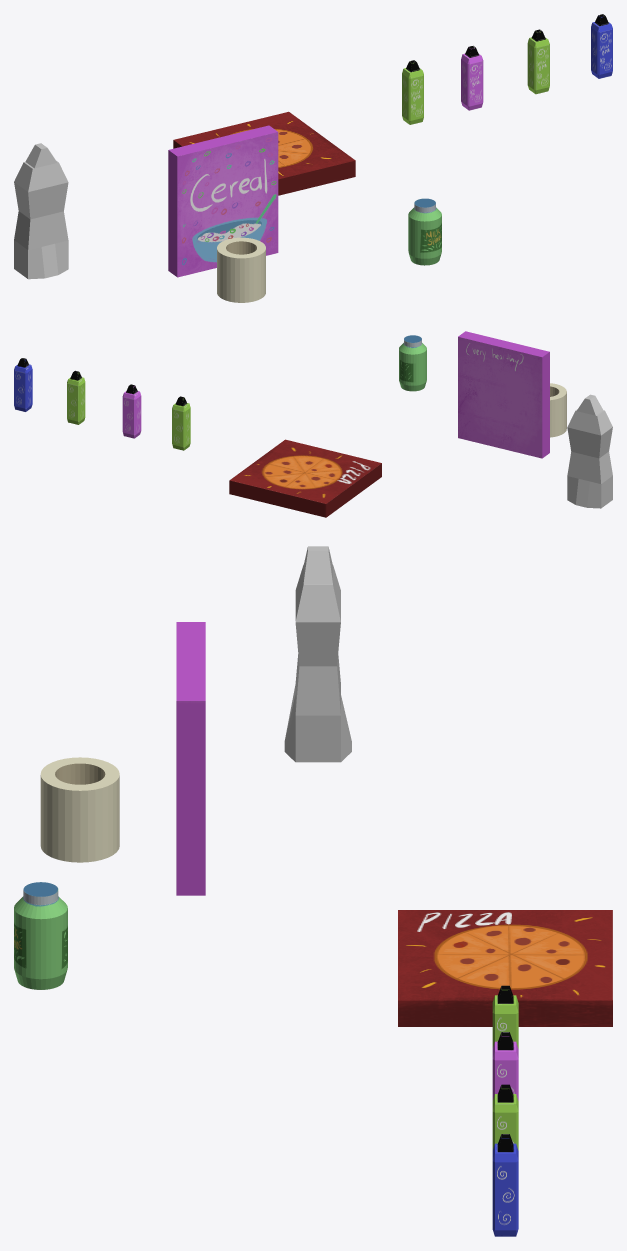
Rendered from shopitems.fbx.
3 renders of one model, top to bottom at view 1: azimuth 30°, elevation 25°; view 2: azimuth 150°, elevation 25°; view 3: azimuth 270°, elevation 25°, orthographic. The views are drawn at different scales.
Visible parts, largest first — view 1: Cube.002, Cube, Cube.001, Cylinder, Cylinder.002, Cube.005, Cube.004, Cube.003, Cube.006; view 2: Cube.002, Cube.001, Cube, Cylinder.002, Cube.004, Cube.003, Cube.006, Cube.005, Cylinder; view 3: Cube.001, Cube, Cube.002, Cylinder, Cylinder.002, Cube.006, Cube.004, Cube.005, Cube.003.
Boxes of the visible parts, left/top/right/bottom form: Cube.002: left=168, top=125, right=278, bottom=277; Cube: left=14, top=143, right=68, bottom=279; Cube.001: left=173, top=111, right=355, bottom=195; Cylinder: left=217, top=237, right=265, bottom=302; Cylinder.002: left=408, top=198, right=441, bottom=265; Cube.005: left=527, top=29, right=549, bottom=94; Cube.004: left=461, top=45, right=483, bottom=110; Cube.003: left=402, top=60, right=423, bottom=124; Cube.006: left=591, top=14, right=612, bottom=78; Cube.002: left=458, top=331, right=549, bottom=458; Cube.001: left=229, top=439, right=381, bottom=517; Cube: left=567, top=394, right=612, bottom=508; Cylinder.002: left=399, top=335, right=426, bottom=391; Cube.004: left=122, top=384, right=141, bottom=438; Cube.003: left=172, top=396, right=190, bottom=450; Cube.006: left=14, top=358, right=32, bottom=411; Cube.005: left=67, top=370, right=85, bottom=424; Cylinder: left=550, top=383, right=566, bottom=437; Cube.001: left=398, top=910, right=612, bottom=1026; Cube: left=284, top=546, right=351, bottom=762; Cube.002: left=176, top=622, right=205, bottom=895; Cylinder: left=40, top=757, right=119, bottom=862; Cylinder.002: left=14, top=882, right=67, bottom=989; Cube.006: left=492, top=1134, right=518, bottom=1236; Cube.004: left=492, top=1032, right=518, bottom=1100; Cube.005: left=492, top=1084, right=518, bottom=1150; Cube.003: left=492, top=985, right=518, bottom=1048.
Size of the model in its own units: 677 by 132 by 338.
